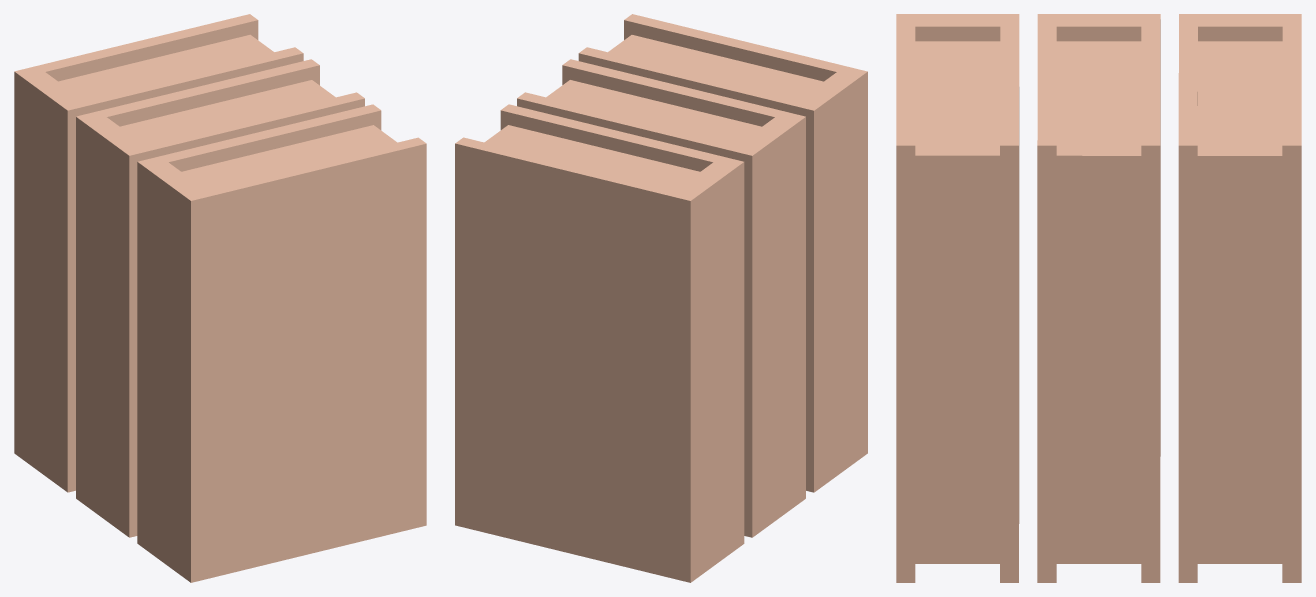
The model's file is Book2.glb.
3 views of the same model, side by side, from view 1: azimuth 30°, elevation 25°; view 2: azimuth 150°, elevation 25°; view 3: azimuth 270°, elevation 25° (orthographic). The views are drawn at different scales.
Parts seen in each view (by area): view 1: Cube.029; view 2: Cube.029; view 3: Cube.029.
Boxes of the visible parts, x1,y1,x2,y2 form: Cube.029: (14, 14, 426, 582); Cube.029: (455, 14, 867, 582); Cube.029: (896, 14, 1301, 582).
Size of the model in its own units: 0.1575 by 0.2437 by 0.2049.
